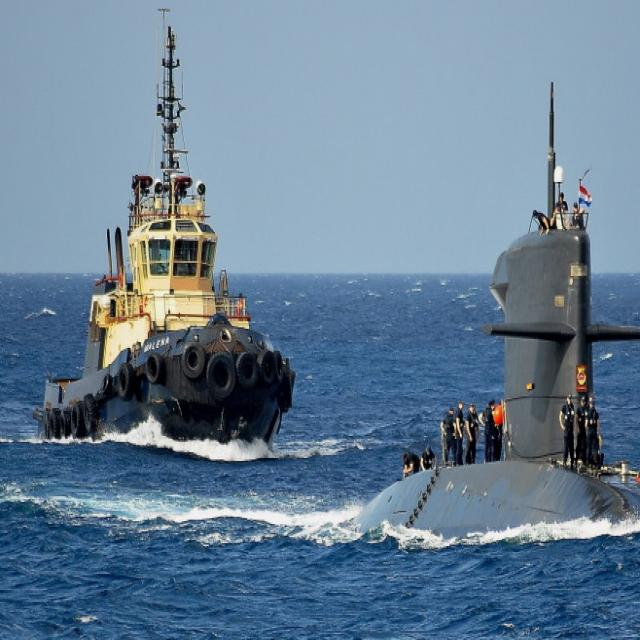submarine: (348, 79, 640, 541)
